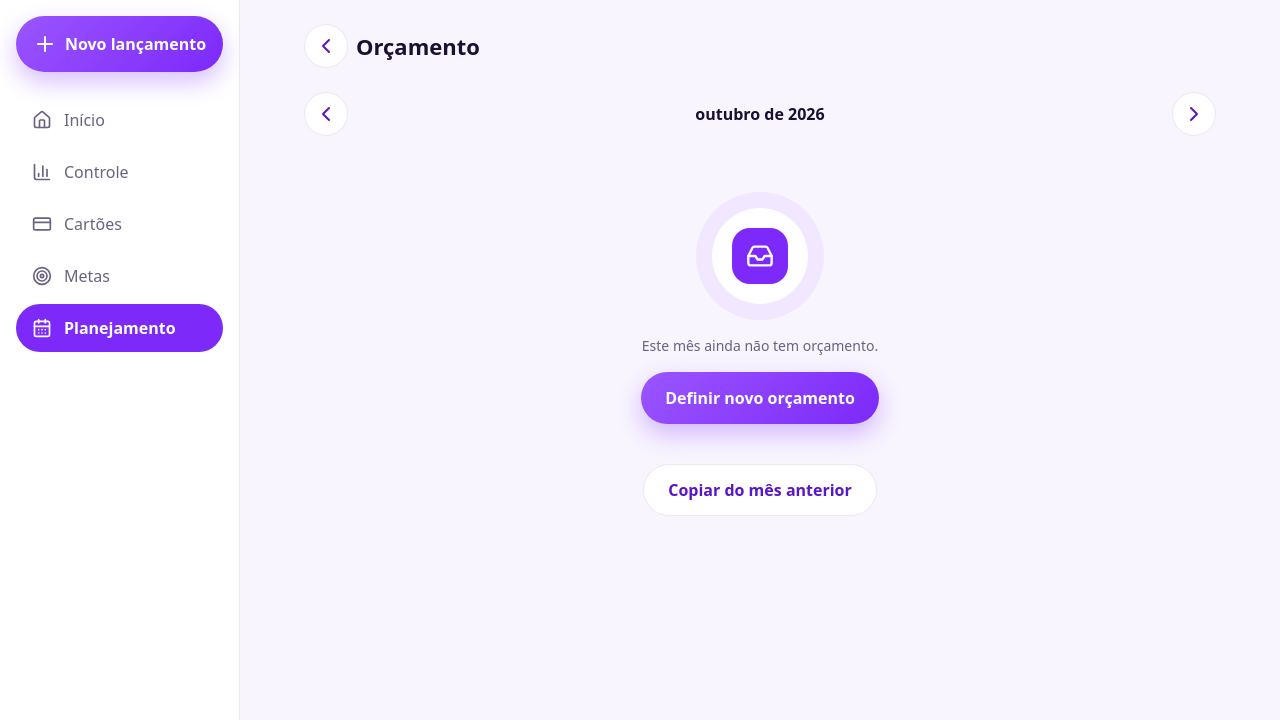
Test: Orcamento: copiar do mês anterior (CA-7.08) › mês anterior sem orçamento: informa e não cria nada
The width and height of the screenshot is (1280, 720).
Click the button "Copiar do mês anterior": click(760, 490) [643, 464, 877, 516]
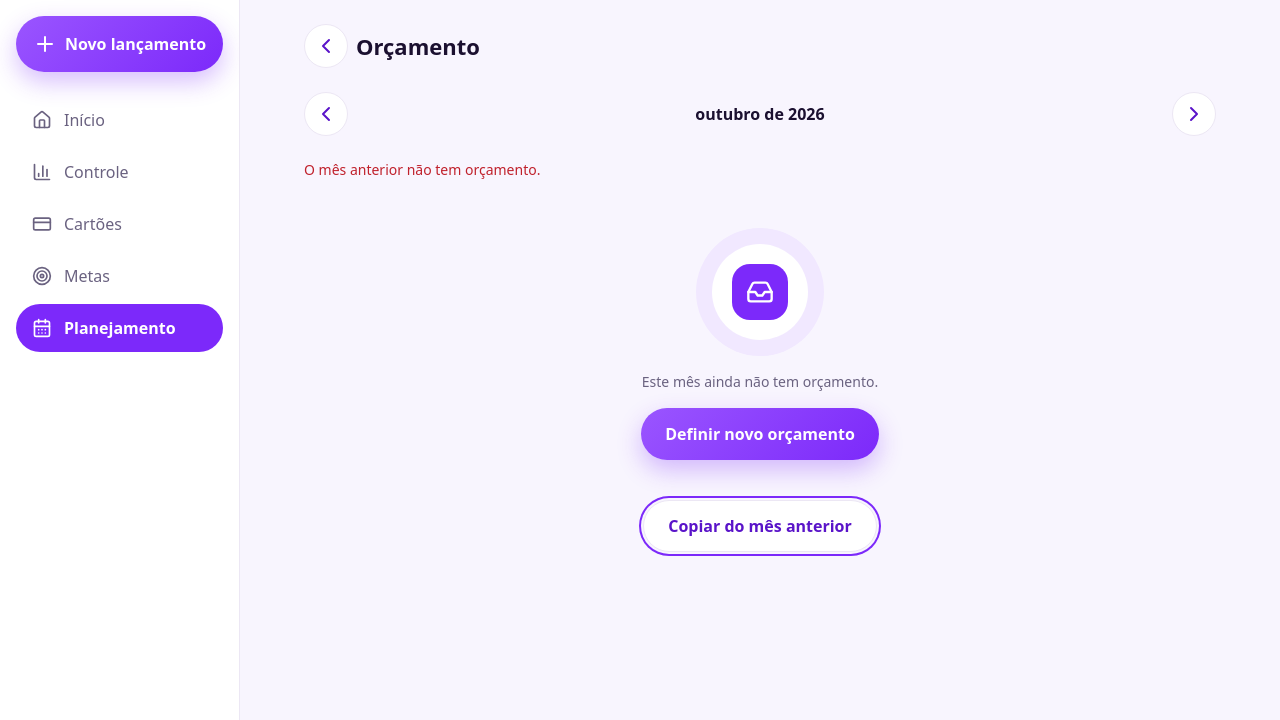
Check: the text "Este mês ainda não tem orçamento." is shown, box [642, 372, 878, 392]
Check: the text "O mês anterior não tem orçamento." is shown, box [304, 160, 540, 179]
